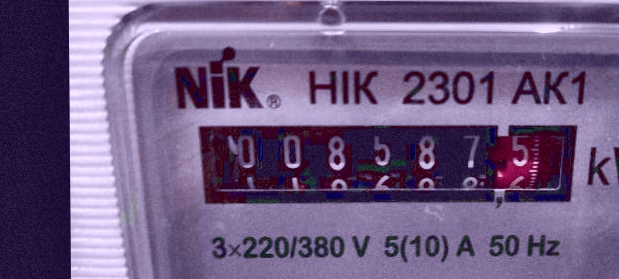0: (279, 130, 303, 170)
1: (233, 130, 257, 171)
5: (508, 129, 532, 169), (370, 130, 393, 168)
7: (459, 130, 482, 171)
8: (323, 131, 348, 172), (415, 131, 436, 172)
screen: (178, 102, 597, 225)
